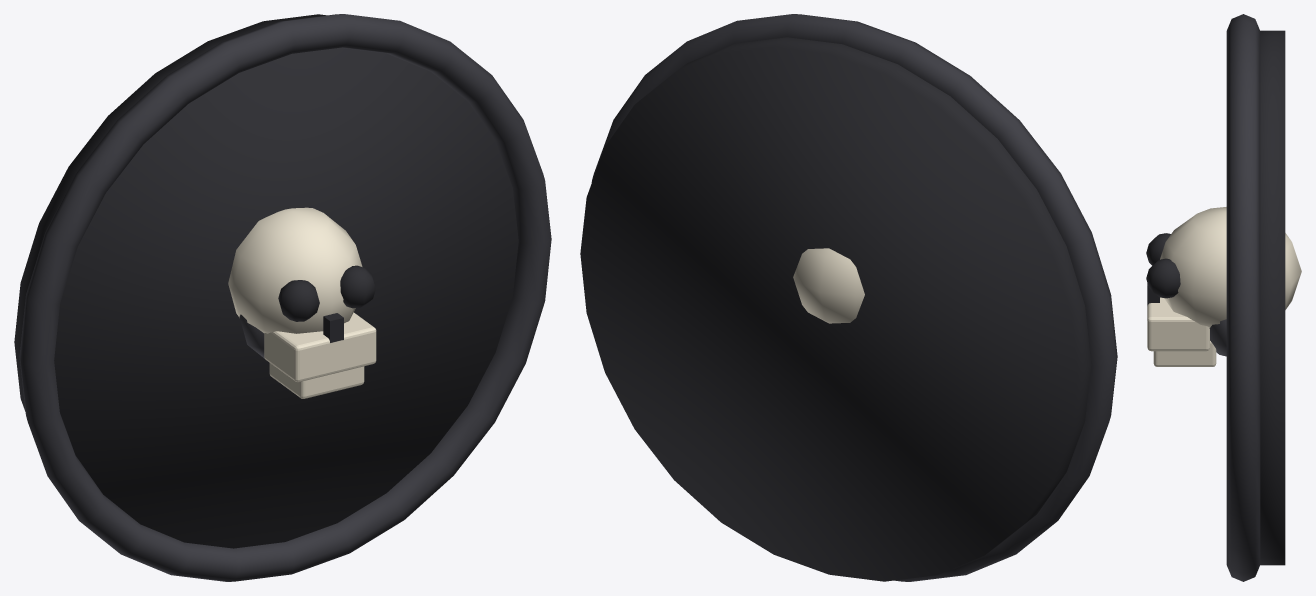
The model's file is wall_gear_shield_skull.glb.
3 views of the same model, side by side, from view 1: azimuth 30°, elevation 25°; view 2: azimuth 150°, elevation 25°; view 3: azimuth 270°, elevation 25° (orthographic). The views are drawn at different scales.
Visible parts, largest first — view 1: GD_wall_gear_shield_skull__m0, GD_wall_gear_shield_skull__m1, GD_wall_gear_shield_skull__m3; view 2: GD_wall_gear_shield_skull__m0, GD_wall_gear_shield_skull__m1, GD_wall_gear_shield_skull__m3; view 3: GD_wall_gear_shield_skull__m1, GD_wall_gear_shield_skull__m0, GD_wall_gear_shield_skull__m3, GD_wall_gear_shield_skull__m2.
Part boxes in pixels (x1,y1,x2,y2): GD_wall_gear_shield_skull__m0: [14, 14, 518, 548]; GD_wall_gear_shield_skull__m1: [19, 14, 551, 581]; GD_wall_gear_shield_skull__m3: [228, 207, 376, 398]; GD_wall_gear_shield_skull__m0: [580, 37, 1091, 581]; GD_wall_gear_shield_skull__m1: [591, 14, 1117, 581]; GD_wall_gear_shield_skull__m3: [793, 248, 864, 323]; GD_wall_gear_shield_skull__m1: [1226, 14, 1260, 581]; GD_wall_gear_shield_skull__m0: [1146, 30, 1285, 565]; GD_wall_gear_shield_skull__m3: [1147, 207, 1301, 366]; GD_wall_gear_shield_skull__m2: [1209, 319, 1226, 356].
Bounding box in the file's own units: 0.68 × 0.68 × 0.1864.
